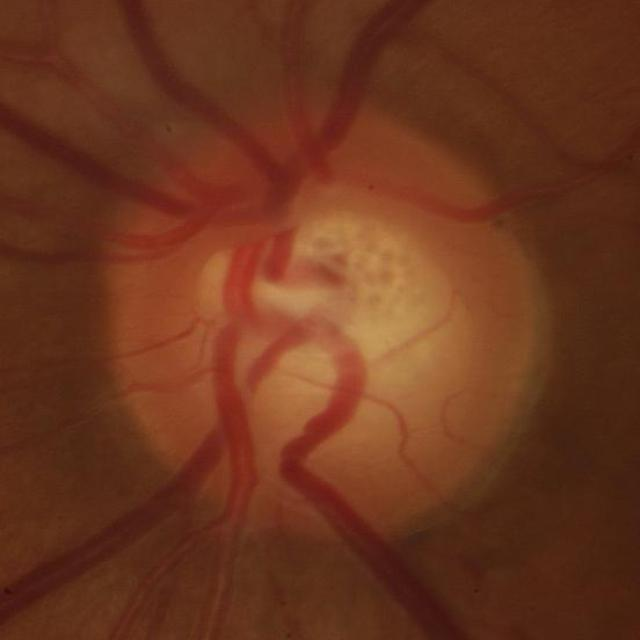OC: (206, 220, 442, 396)
OD: (110, 130, 544, 546)
